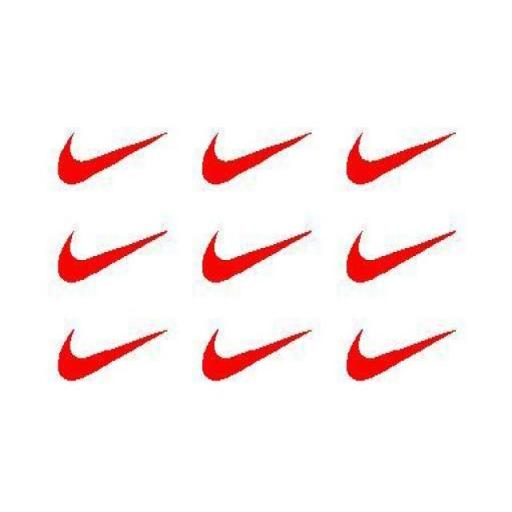Nike: (344, 326, 461, 384)
